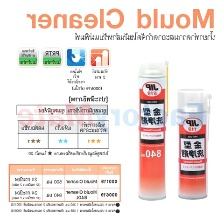aerosol_cans: (135, 51, 172, 201), (173, 86, 213, 201)
